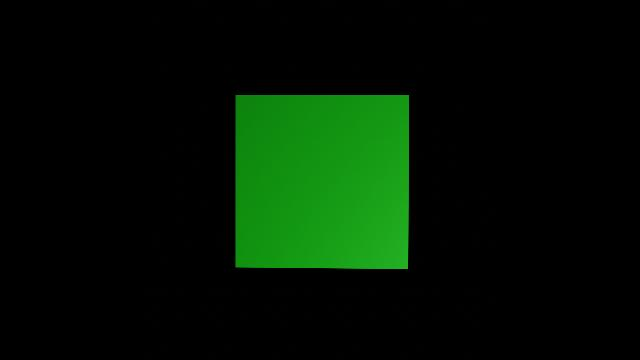Cube: (225, 87, 417, 277)
